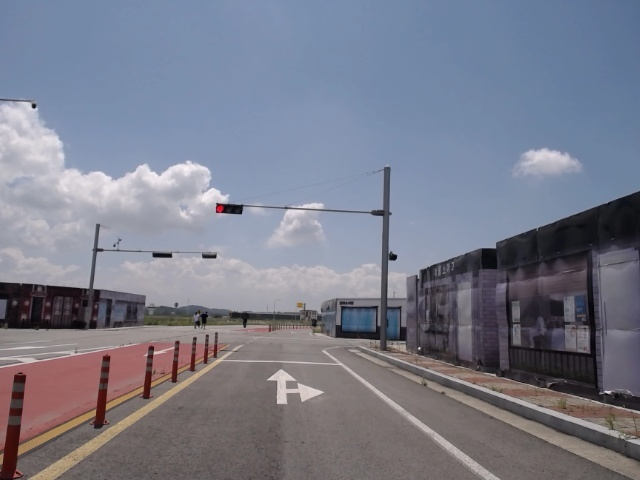red_3: (214, 201, 244, 215)
